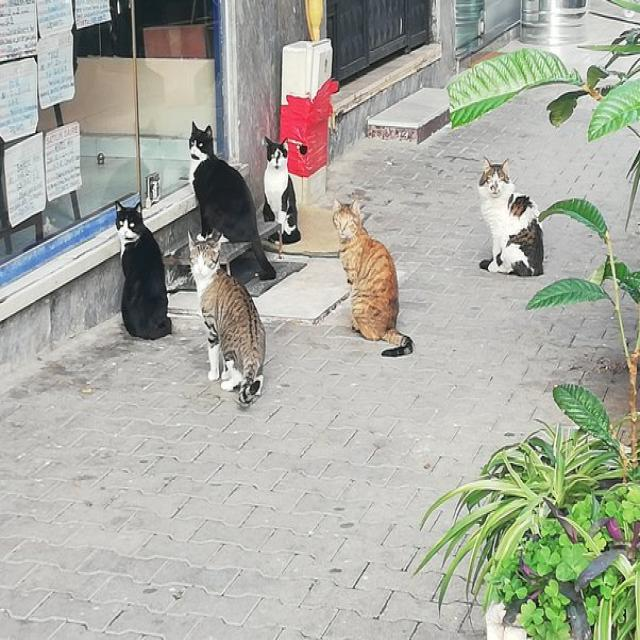cat: (189, 123, 275, 279), (189, 230, 265, 405), (332, 200, 412, 356), (478, 158, 544, 276), (116, 201, 171, 339), (262, 137, 301, 244)
